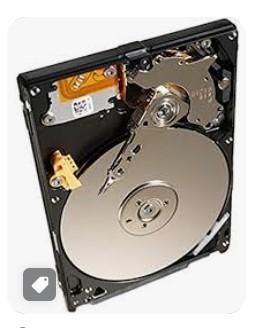internal HDD: (17, 18, 246, 310)
